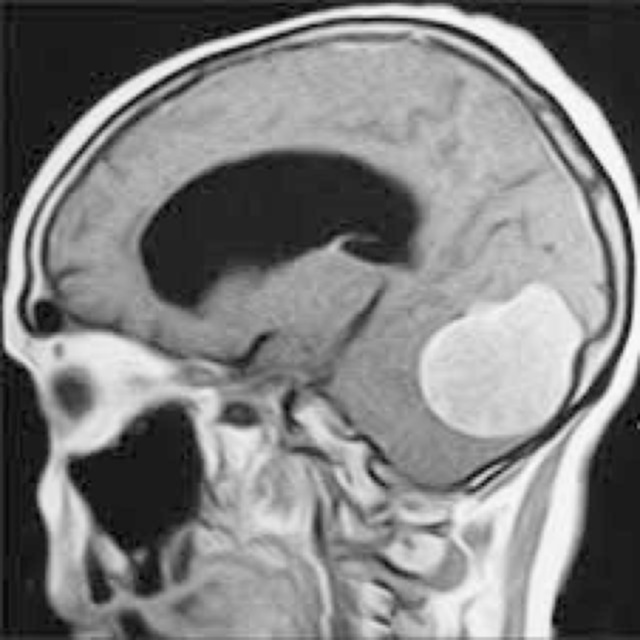meningioma tumor: (410, 281, 592, 450)
